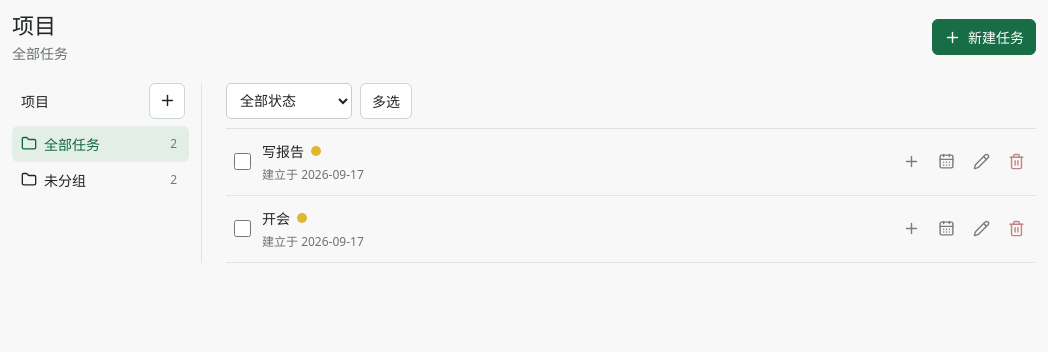
it: Escape exits selection mode and clears selection
The image size is (1048, 352).
Click the button "多选".
click(386, 100)  # box top-left (360, 82), bottom-right (412, 118)
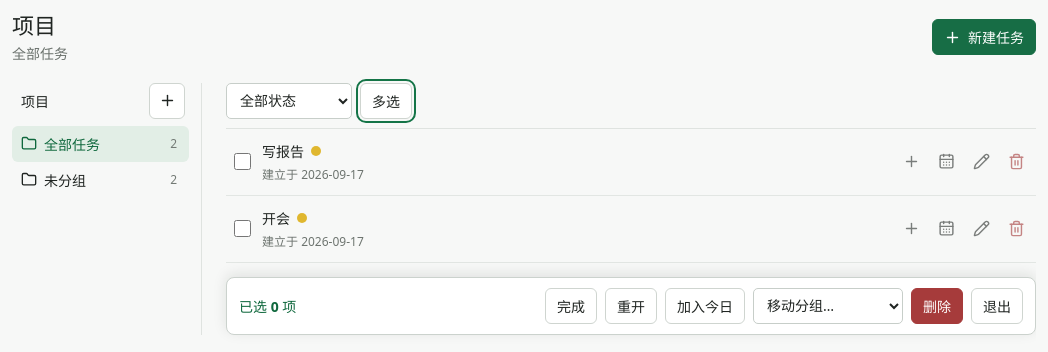
Click the checkbox named "选择 写报告".
click(242, 162)  # box top-left (234, 153), bottom-right (251, 170)
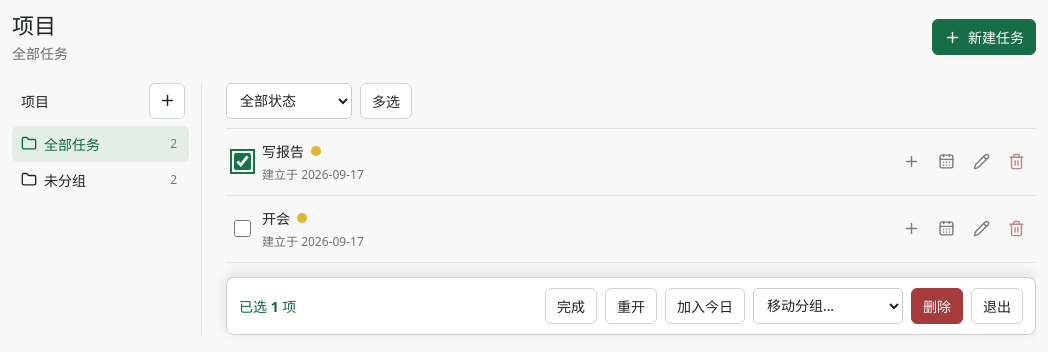
Click the checkbox named "选择 开会".
click(242, 228)  # box top-left (234, 220), bottom-right (251, 237)
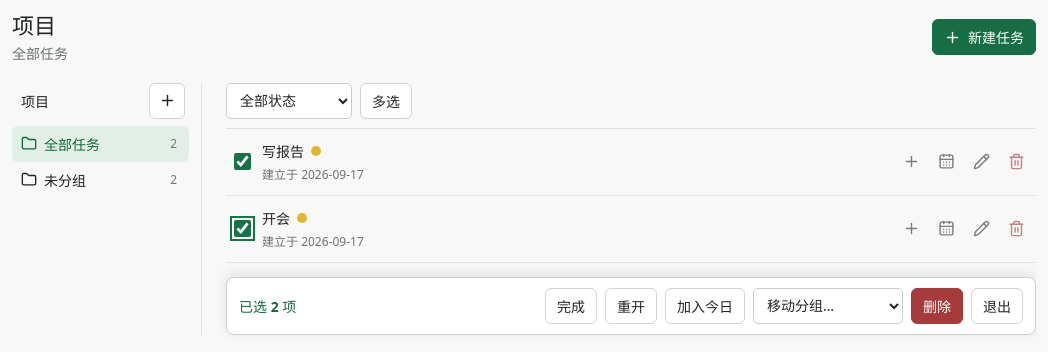
Press Escape
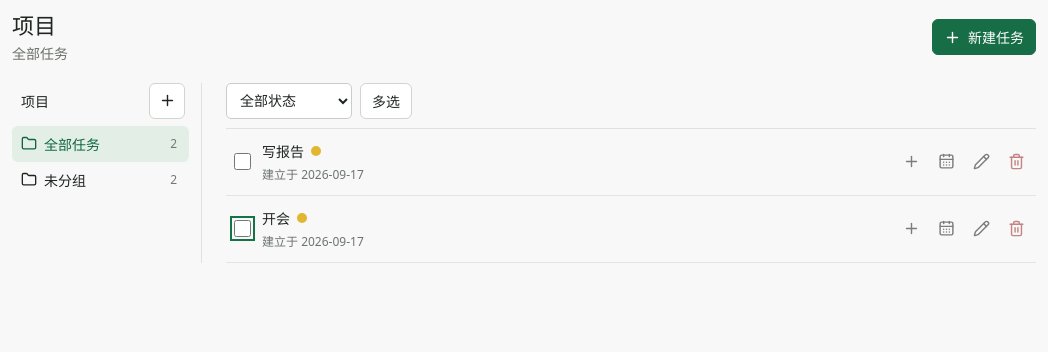
Expected: the text "已选" is gone
Expected: the checkbox named "完成 写报告" is shown, top-left (234, 153), bottom-right (251, 170)
